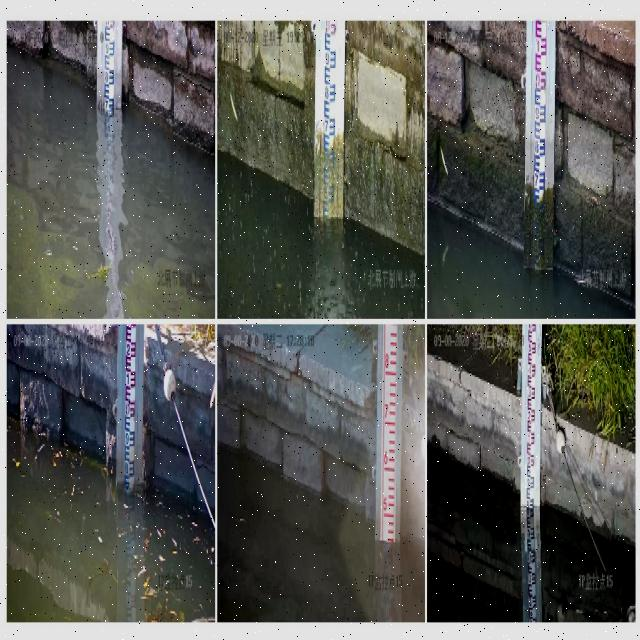staff: (382, 327, 398, 541), (523, 320, 540, 511), (532, 20, 548, 194), (122, 322, 136, 501), (324, 20, 337, 158), (101, 20, 119, 119)
